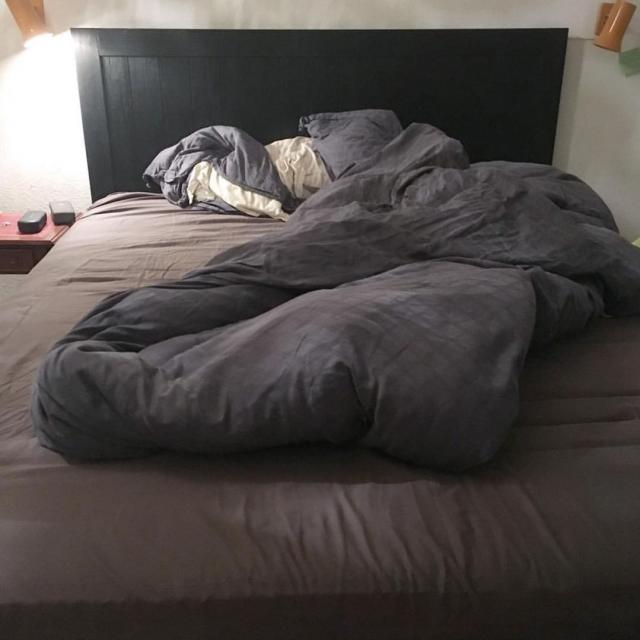bed: (21, 92, 640, 602)
